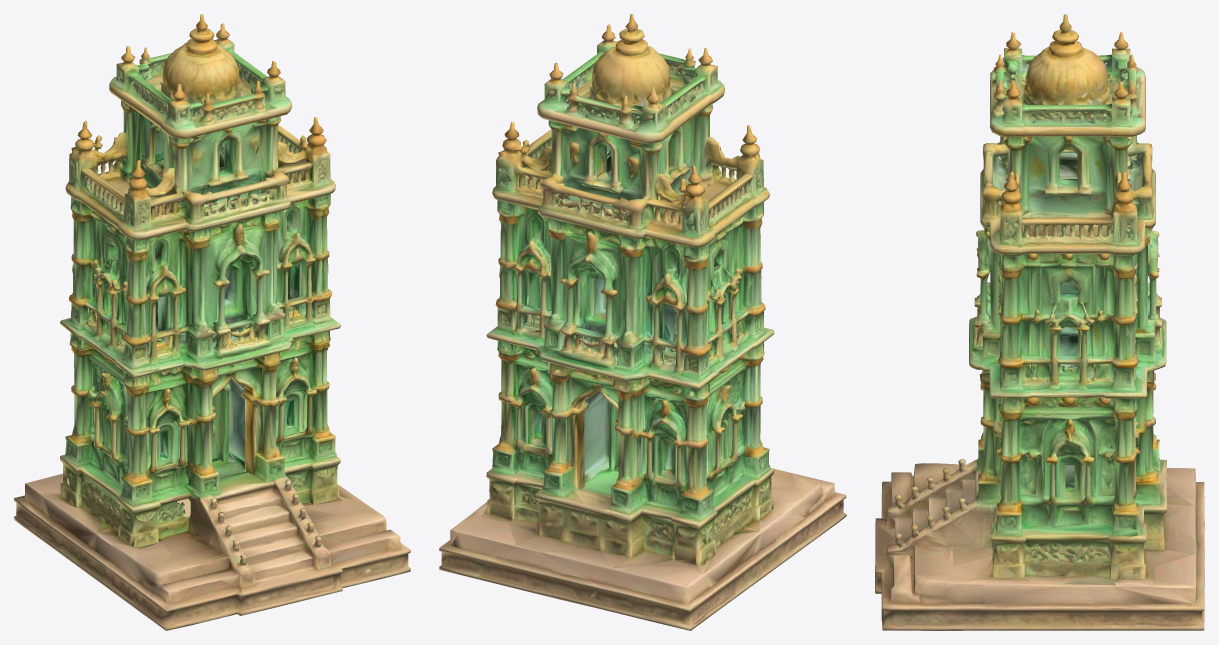
Rendered from Emerald_Palace_with_G.glb.
3 views of the same model, side by side, from view 1: azimuth 30°, elevation 25°; view 2: azimuth 150°, elevation 25°; view 3: azimuth 270°, elevation 25° (orthographic). The views are drawn at different scales.
Parts seen in each view (by area): view 1: Emerald_Palace_with_G; view 2: Emerald_Palace_with_G; view 3: Emerald_Palace_with_G.
Boxes of the visible parts, x1=… form: Emerald_Palace_with_G: x1=14, y1=14, x2=410, y2=630; Emerald_Palace_with_G: x1=439, y1=14, x2=846, y2=630; Emerald_Palace_with_G: x1=875, y1=14, x2=1204, y2=630.
Bounding box in the file's own units: 0.9306 × 1.9 × 1.02.
1 material, 1 textured.
